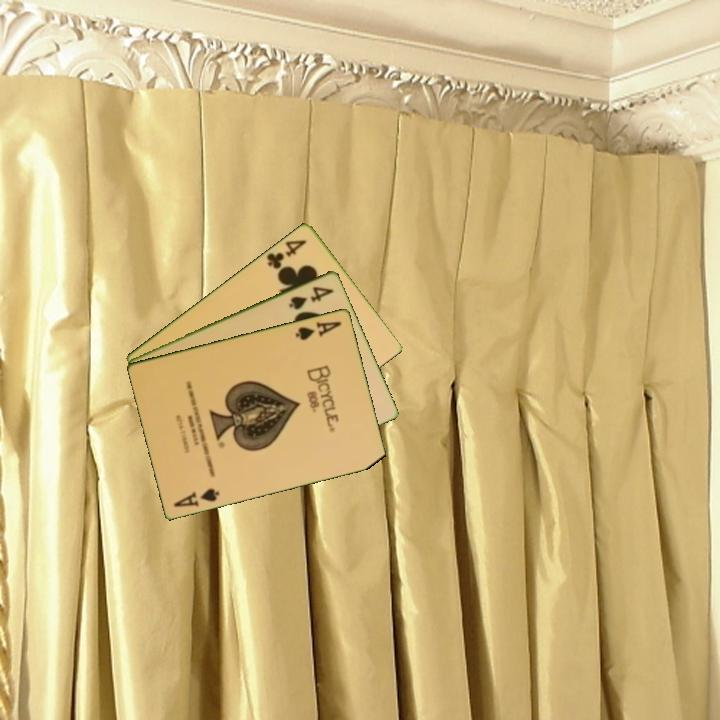4c: (263, 236, 310, 272)
4s: (285, 282, 337, 312)
As: (292, 317, 345, 343), (170, 484, 223, 510)
